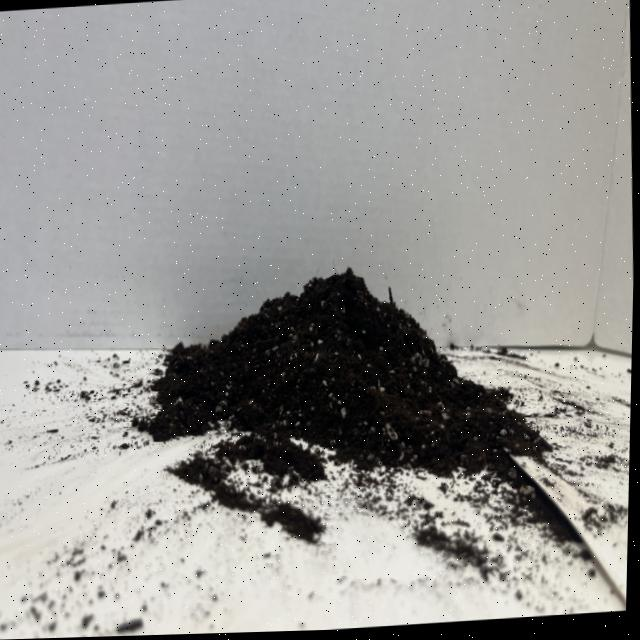soil: (126, 251, 559, 509)
